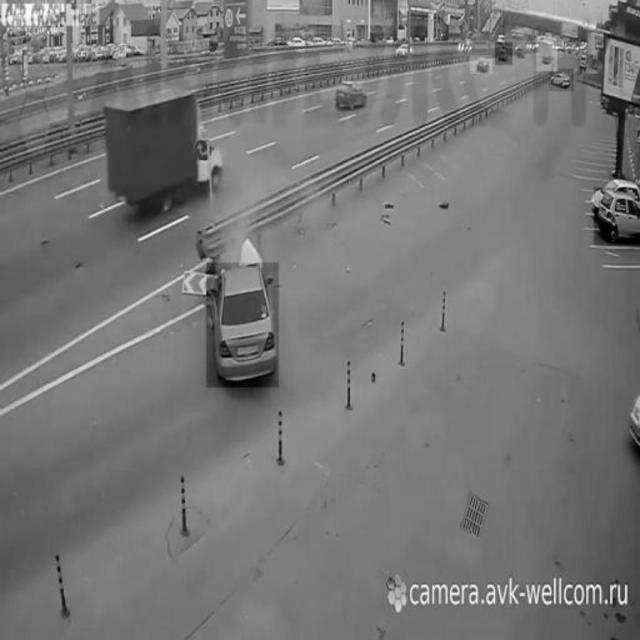vehicle: (103, 85, 224, 215), (207, 262, 279, 388), (594, 189, 640, 246), (332, 77, 369, 113), (537, 37, 557, 72), (549, 69, 574, 91), (470, 55, 494, 73), (495, 43, 512, 65), (394, 39, 412, 59)
